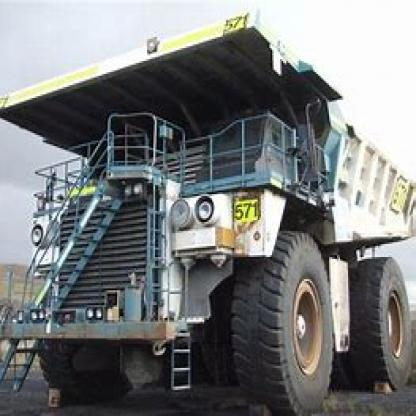dump_truck: (8, 7, 410, 408)
